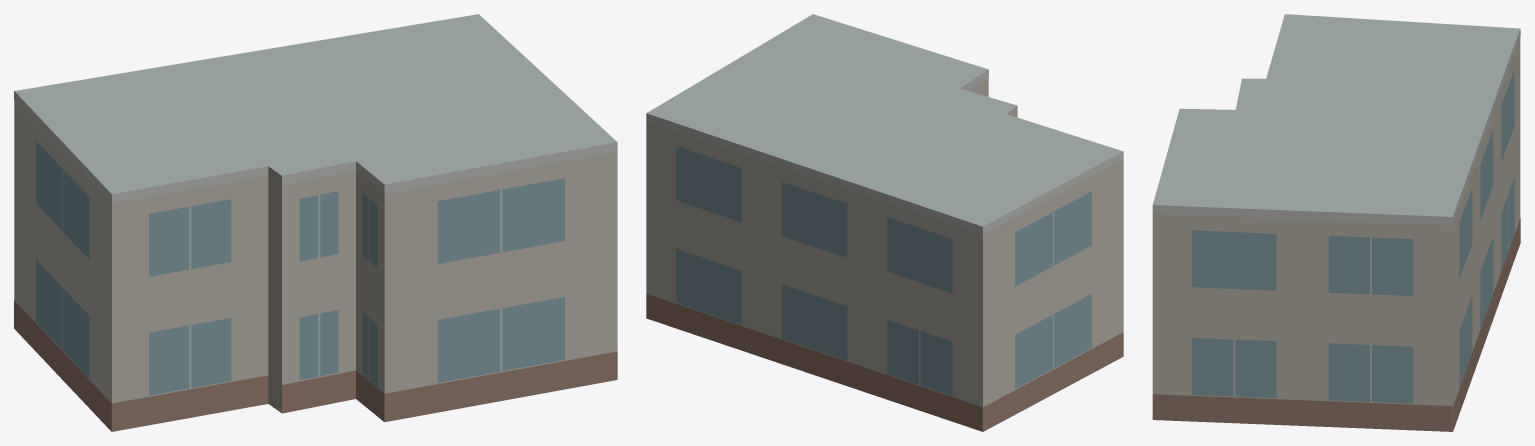
File: survey-upis-32590181.glb
The picture shows the model from 3 angles, left to right: view 1: azimuth 30°, elevation 25°; view 2: azimuth 150°, elevation 25°; view 3: azimuth 270°, elevation 25°; orthographic projection. The views are drawn at different scales.
Visible parts, largest first — view 1: survey-upis-32590181.tmp; view 2: survey-upis-32590181.tmp; view 3: survey-upis-32590181.tmp.
Boxes of the visible parts, <box> form: survey-upis-32590181.tmp: <box>14,14,617,431</box>; survey-upis-32590181.tmp: <box>646,14,1123,431</box>; survey-upis-32590181.tmp: <box>1152,14,1520,431</box>.
Size of the model in its own units: 12.37 by 6.1 by 9.47.
